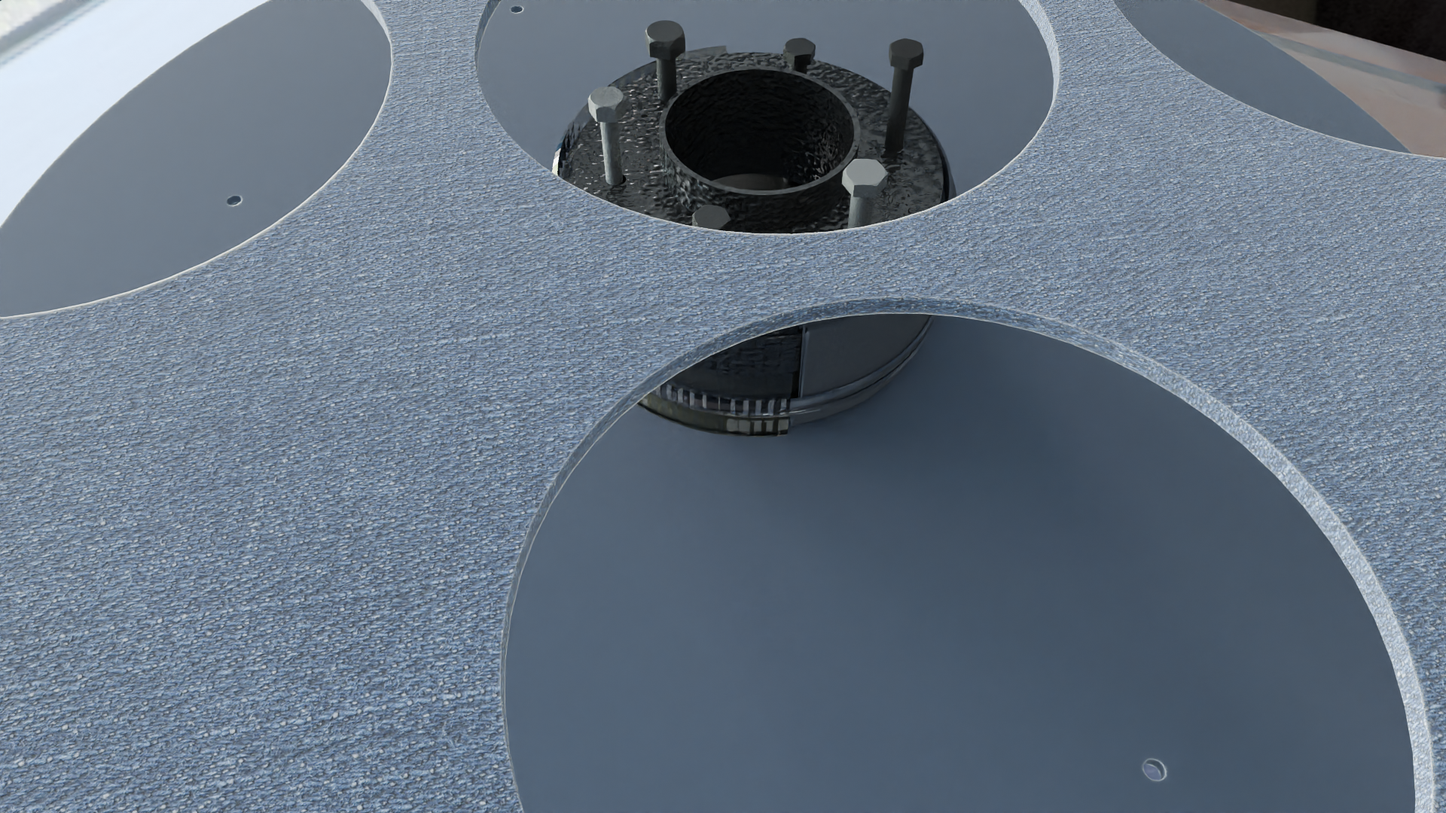bolt: (844, 159, 888, 186), (645, 20, 685, 47), (692, 205, 731, 230), (588, 87, 626, 110), (889, 38, 924, 60), (783, 38, 816, 56)
